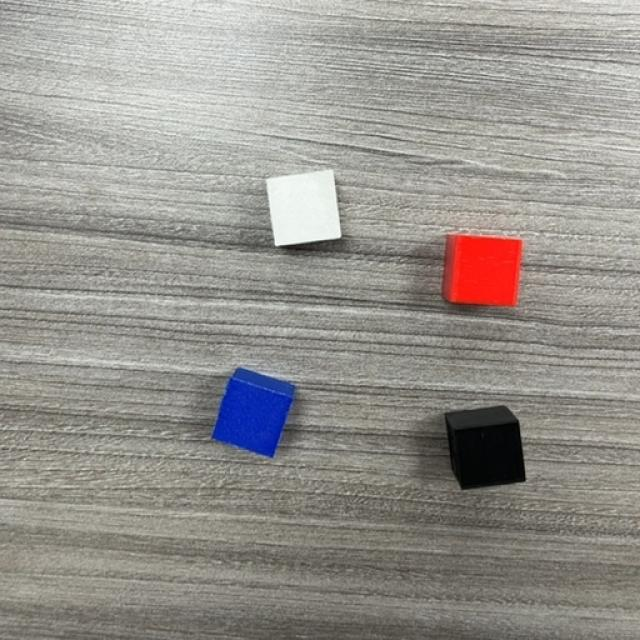Azul: (212, 370, 294, 460)
Blanco: (266, 168, 341, 248)
Negro: (448, 418, 522, 489)
Rojo: (443, 239, 521, 304)
